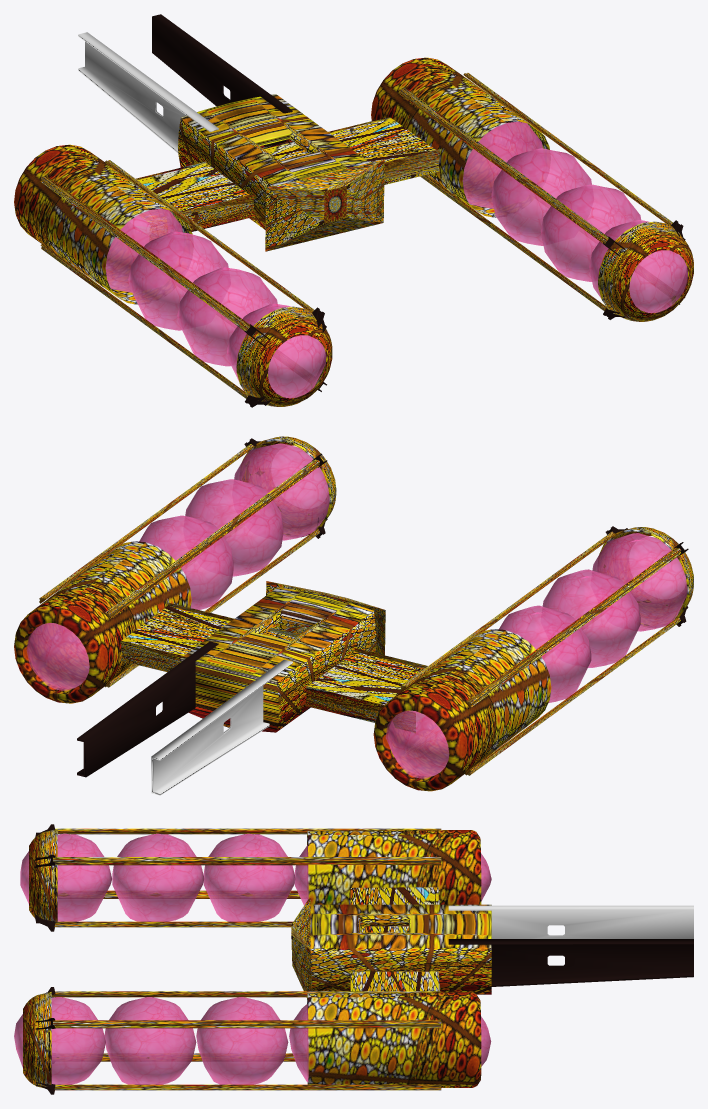
The model's file is EnemyModel7.fbx.
3 views of the same model, one above another, from view 1: azimuth 30°, elevation 25°; view 2: azimuth 150°, elevation 25°; view 3: azimuth 270°, elevation 25° (orthographic). The views are drawn at different scales.
Visible parts, largest first — view 1: polySurface2, Line241, Line237, polySurface1, nucleus4, nucleus2, nucleus1, nucleus5, Line247, nucleus3, nucleus6, nucleus8 (+3 smaller); view 2: polySurface2, Line241, Line237, polySurface1, nucleus5, nucleus2, nucleus3, nucleus6, nucleus4, nucleus1, Line246, Line247 (+4 smaller); view 3: polySurface2, Line237, Line241, polySurface1, nucleus4, nucleus5, nucleus1, nucleus2, nucleus6, nucleus3, Line246, Line247 (+2 smaller).
Part boxes in pixels (bbox=[...]): polySurface2: bbox=[40, 14, 693, 407]; Line241: bbox=[14, 144, 192, 304]; Line237: bbox=[371, 57, 549, 217]; polySurface1: bbox=[78, 32, 218, 153]; nucleus4: bbox=[491, 148, 591, 245]; nucleus2: bbox=[177, 267, 277, 366]; nucleus1: bbox=[128, 231, 228, 330]; nucleus5: bbox=[540, 184, 641, 281]; Line247: bbox=[137, 118, 435, 183]; nucleus3: bbox=[227, 303, 326, 398]; nucleus6: bbox=[589, 220, 687, 313]; nucleus8: bbox=[462, 121, 542, 208]; polySurface2: bbox=[39, 436, 693, 777]; Line241: bbox=[373, 629, 551, 791]; Line237: bbox=[14, 541, 191, 703]; polySurface1: bbox=[151, 659, 292, 795]; nucleus5: bbox=[185, 479, 283, 576]; nucleus2: bbox=[542, 569, 640, 667]; nucleus3: bbox=[592, 533, 687, 631]; nucleus6: bbox=[234, 443, 329, 540]; nucleus4: bbox=[139, 515, 233, 609]; nucleus1: bbox=[499, 605, 591, 702]; Line246: bbox=[164, 606, 423, 711]; Line247: bbox=[122, 608, 387, 704]; polySurface2: bbox=[23, 824, 693, 1094]; Line237: bbox=[307, 992, 481, 1087]; Line241: bbox=[307, 830, 481, 904]; polySurface1: bbox=[448, 905, 693, 938]; nucleus4: bbox=[196, 997, 288, 1084]; nucleus5: bbox=[104, 997, 196, 1084]; nucleus1: bbox=[203, 833, 295, 921]; nucleus2: bbox=[112, 833, 203, 921]; nucleus6: bbox=[14, 997, 105, 1084]; nucleus3: bbox=[20, 833, 111, 921]; Line246: bbox=[350, 887, 432, 991]; Line247: bbox=[369, 887, 438, 991].
Size of the model in its own units: 914 by 186 by 1285.
4 materials, 2 textured.
